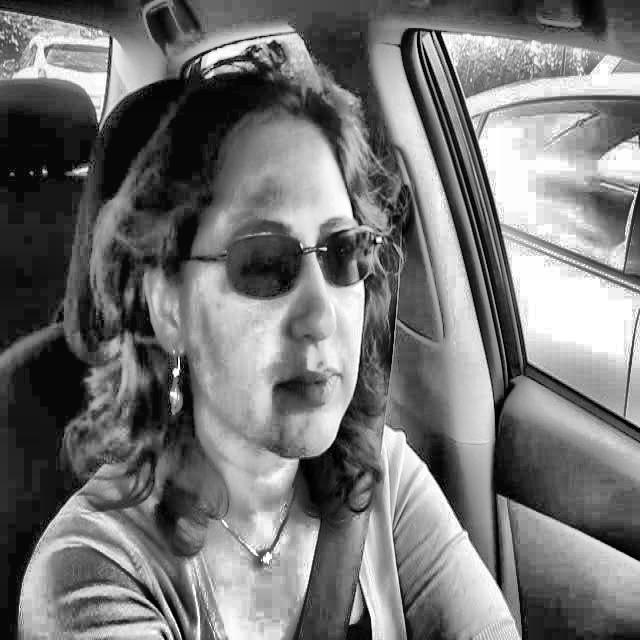closed_mouth: (253, 353, 368, 422)
